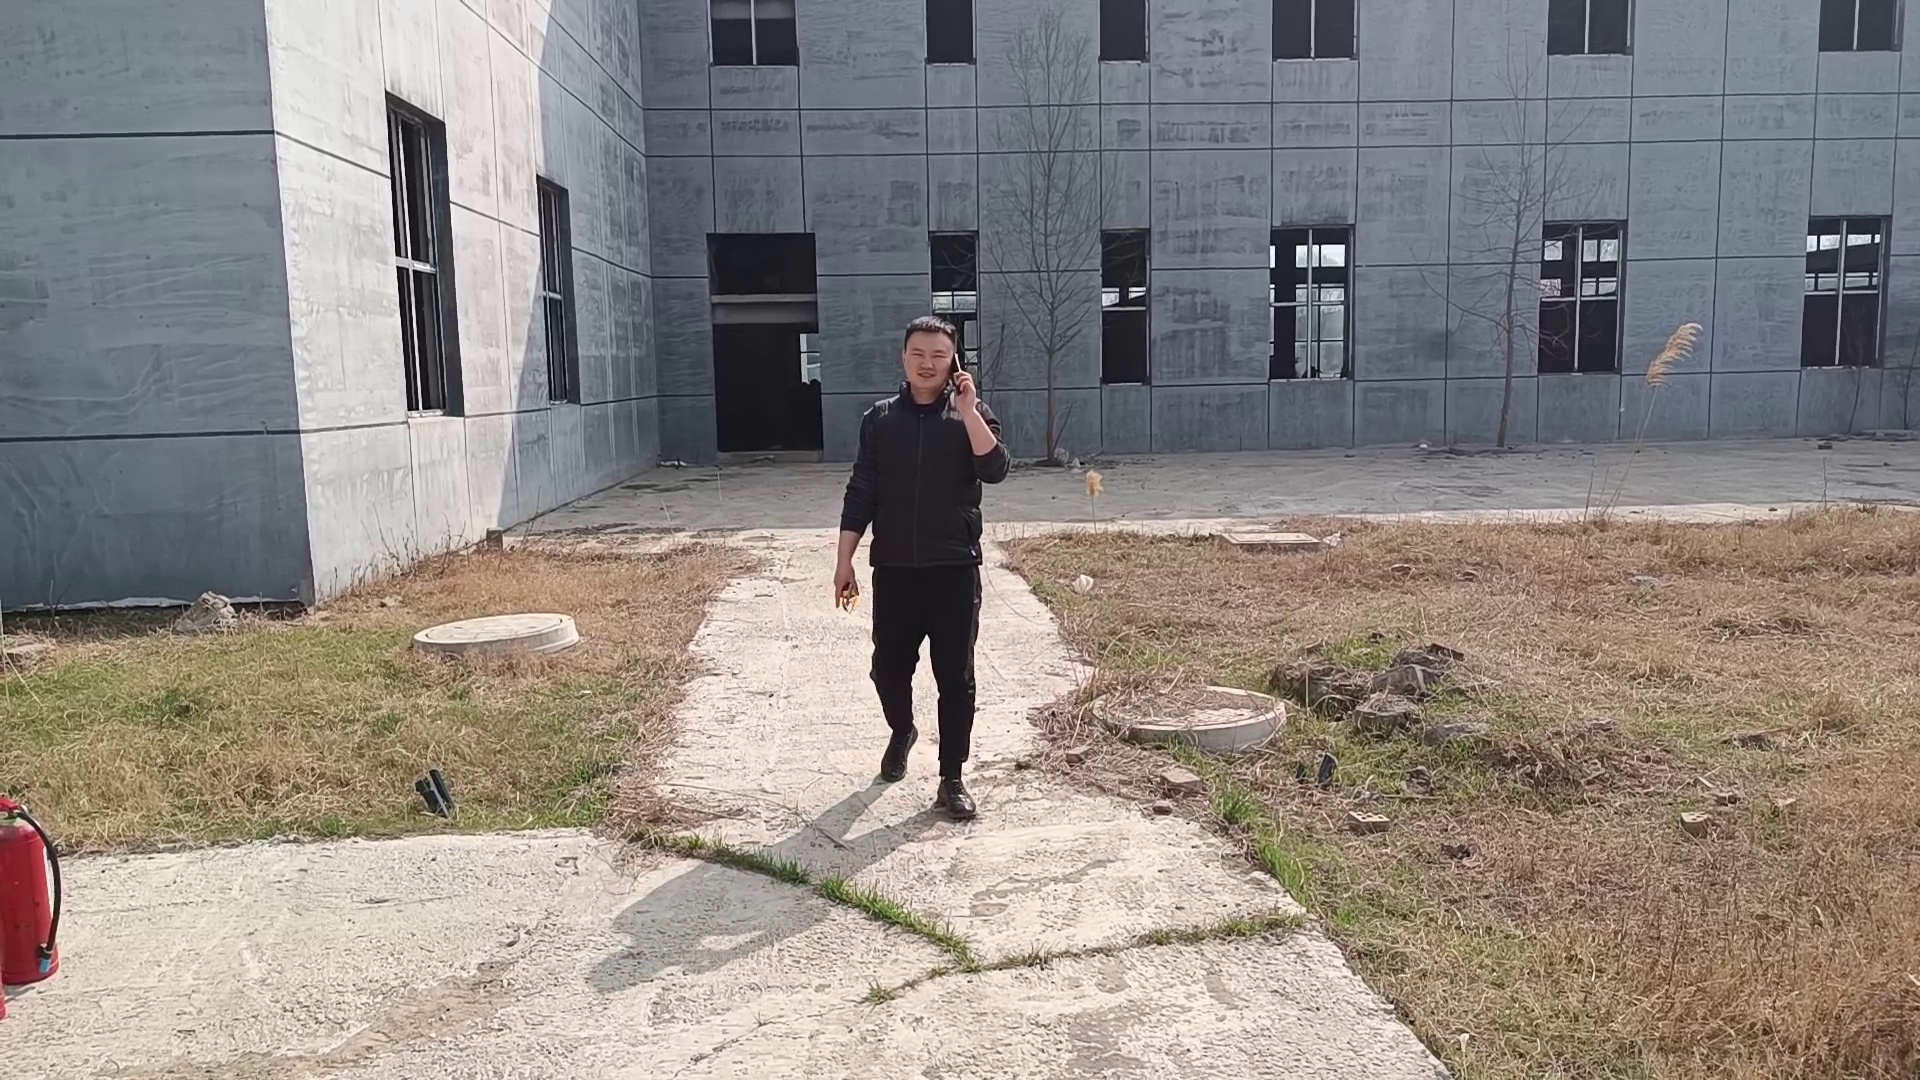phone: (887, 313, 976, 413)
